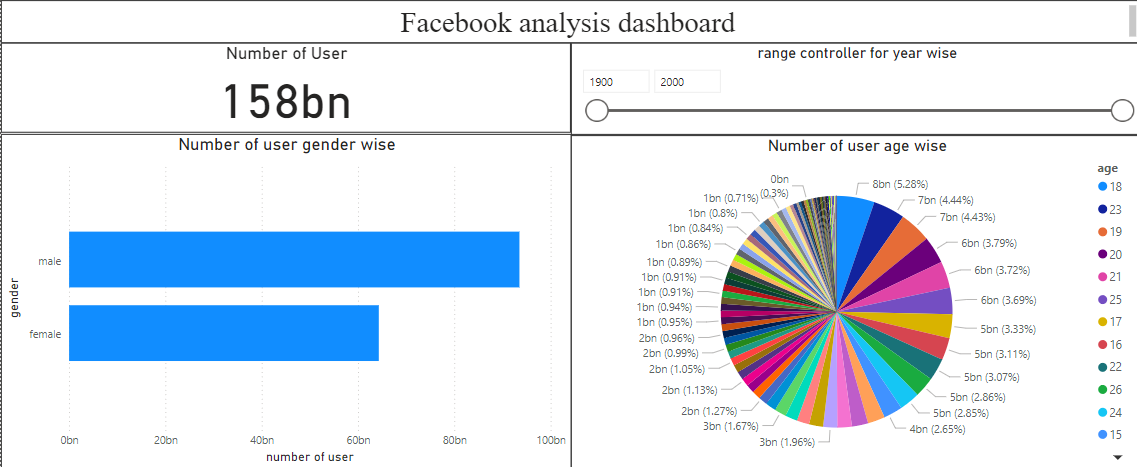

Layout of this report page (visuals, bound fields, positions):
{"tool":"powerbi","page":{"name":"Page 1","canvas":[1280,720],"ordinal":0},"visuals":[{"type":"barChart","title":"Number of user gender wise","fields":{"Y":["Sum(facebook_data.userid)"],"Category":["facebook_data.gender"]},"box":[0,151.7,640,376.7],"z":0},{"type":"pieChart","title":"Number of user age wise","fields":{"Category":["facebook_data.age"],"Y":["Sum(facebook_data.userid)"]},"box":[639.5,152.3,640.8,376],"z":1000},{"type":"slicer","title":"range controller for year wise","fields":{"Values":["facebook_data.dob_year"]},"box":[639.5,49.4,640.8,102.9],"z":1001},{"type":"card","title":"Number of User","fields":{"Values":["Sum(facebook_data.userid)"]},"box":[0,50,640,101.7],"z":1002},{"type":"textbox","box":[0,1.7,1280,48.3],"z":1003}]}

Visuals, with their boxes on the page's 1280x720 design canvas (x1, y1, x2, y2). These are canvas units, not pixel positions in the 1137x467 screenshot, which may show the page scaled, cropped or inside an application window:
"Number of user gender wise" barChart: detection(0, 152, 640, 528)
"Number of user age wise" pieChart: detection(640, 152, 1280, 528)
"range controller for year wise" slicer: detection(640, 49, 1280, 152)
"Number of User" card: detection(0, 50, 640, 152)
textbox: detection(0, 2, 1280, 50)
